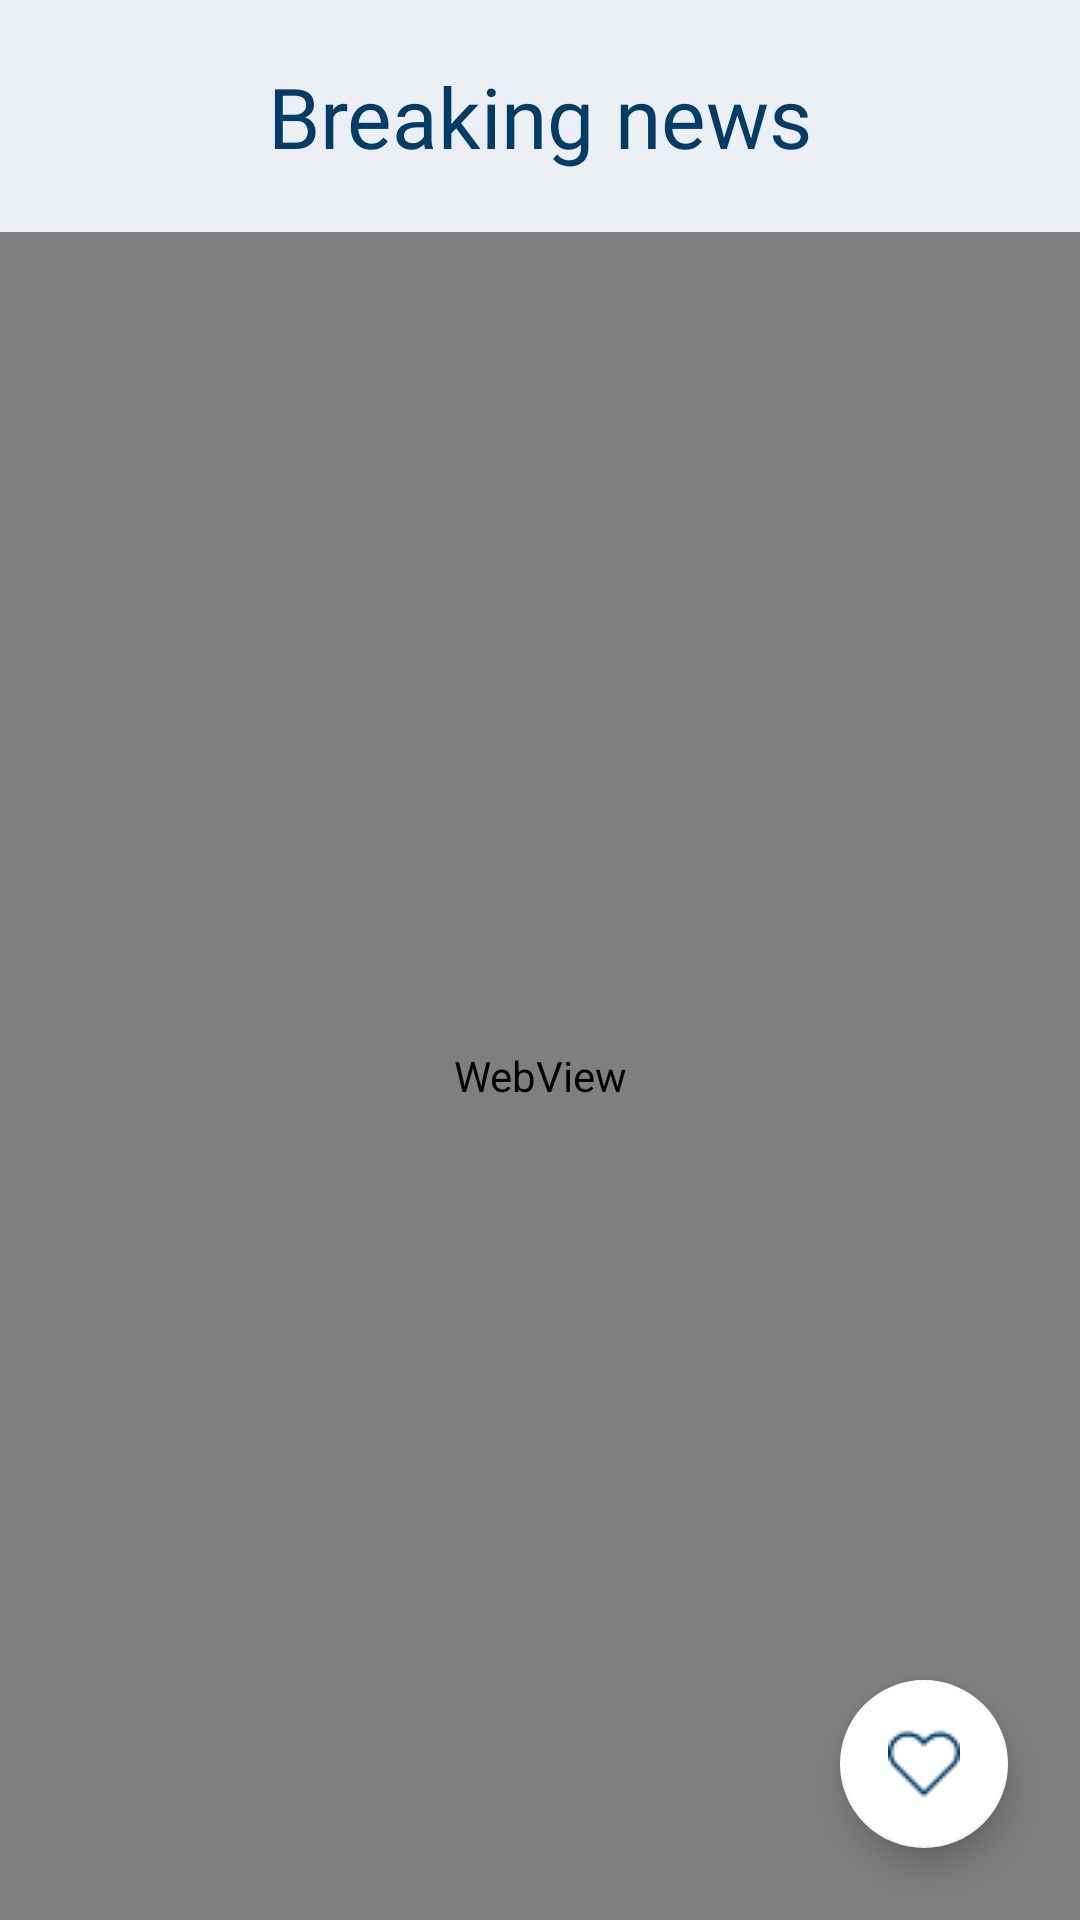

Named icons in this screenshot (1080 × 1920) and their centers, point (x, y):
likeblue: point (924, 1764)
